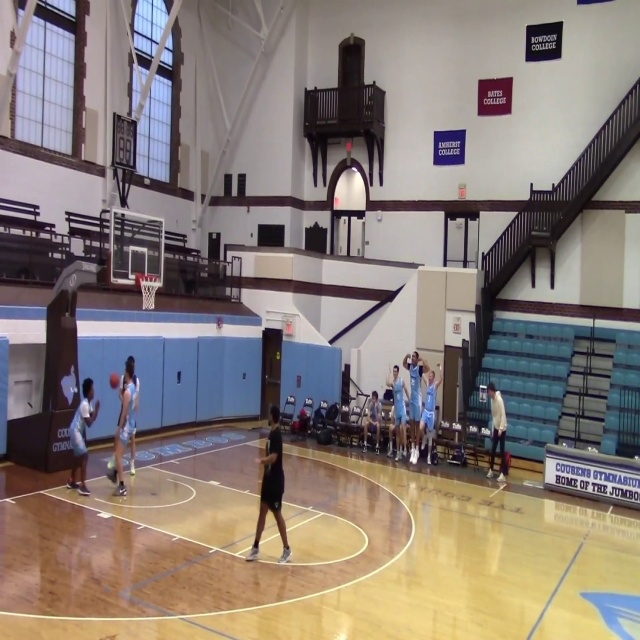Basketball: (109, 373, 119, 388), (107, 459, 116, 470)
